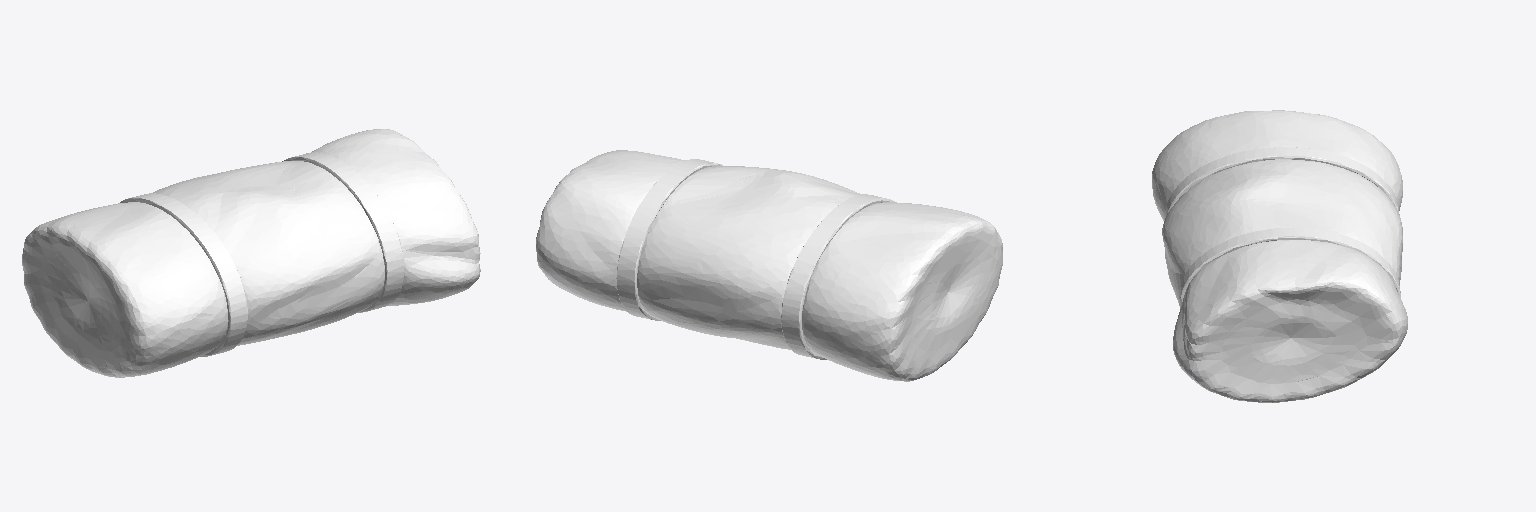
Rendered from bedroll.obj.
3 renders of one model, left to right at view 1: azimuth 30°, elevation 25°; view 2: azimuth 150°, elevation 25°; view 3: azimuth 270°, elevation 25°, orthographic.
Parts seen in each view (by area): view 1: Object.1; view 2: Object.1; view 3: Object.1.
Part boxes in pixels (bbox=[...]): Object.1: bbox=[22, 129, 480, 377]; Object.1: bbox=[536, 150, 1002, 381]; Object.1: bbox=[1152, 110, 1407, 402].
Size of the model in its own units: 72.02 by 26.33 by 43.91.